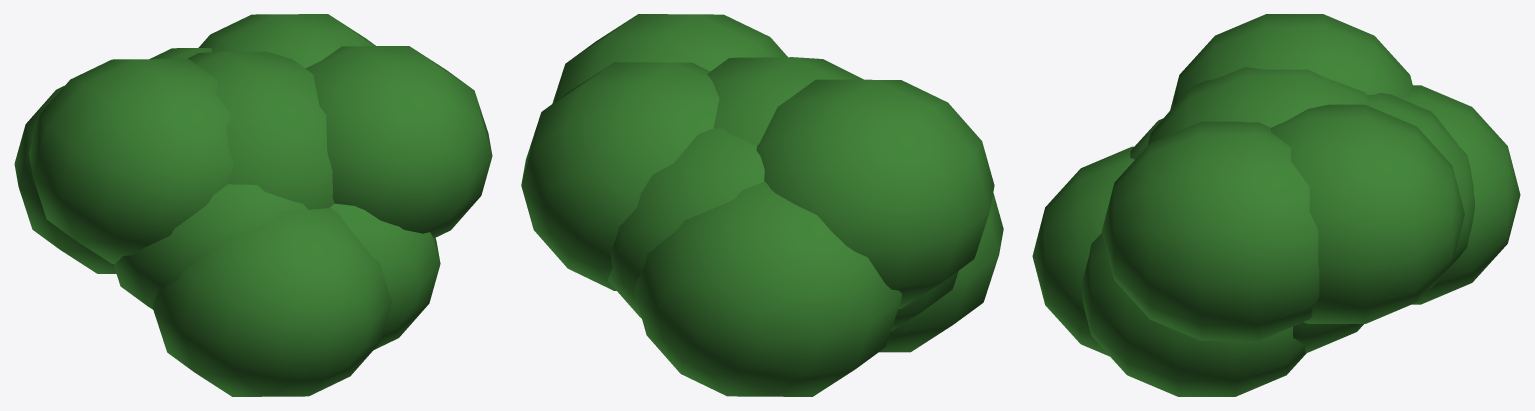
The model's file is Bush0.glb.
The picture shows the model from 3 angles, left to right: view 1: azimuth 30°, elevation 25°; view 2: azimuth 150°, elevation 25°; view 3: azimuth 270°, elevation 25°; orthographic projection. The views are drawn at different scales.
Parts seen in each view (by area): view 1: Bush0; view 2: Bush0; view 3: Bush0.
Boxes of the visible parts, <box> form: Bush0: <box>14,14,492,396</box>; Bush0: <box>521,14,1003,396</box>; Bush0: <box>1032,14,1520,396</box>.
Size of the model in its own units: 2.04 by 1.39 by 2.08.
